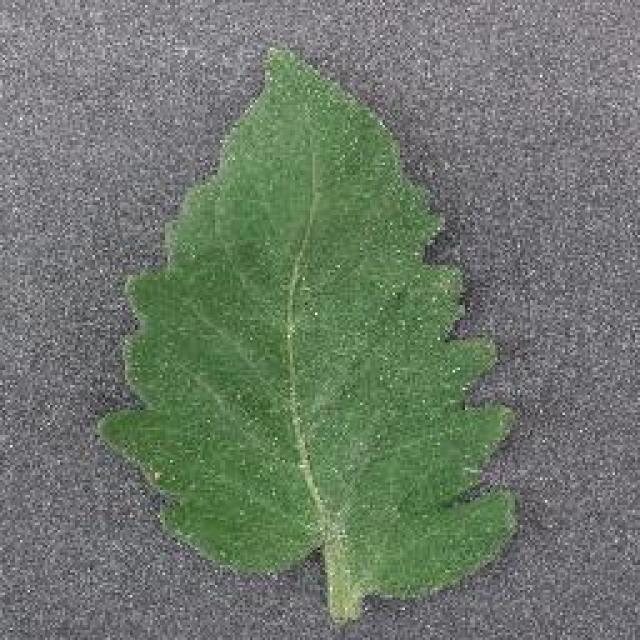Tomato healthy leaf: (98, 46, 522, 609)
